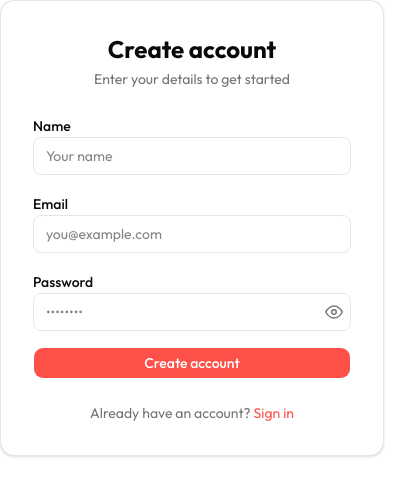
Test: RegisterForm › shows Zod validation error for empty name
Type "tim@test.com" into the field labelled "Email" at (192,234), box top-left (33, 215), bottom-right (351, 253)
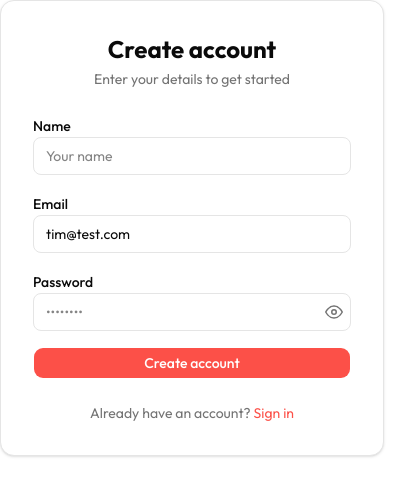
Type "password123" into the password field labelled "Password" at (192,312), box top-left (33, 293), bottom-right (351, 331)
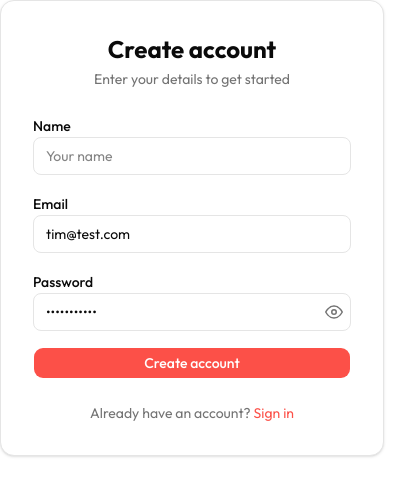
Submit the form "Name Email Password Create account", box top-left (33, 113), bottom-right (351, 379)
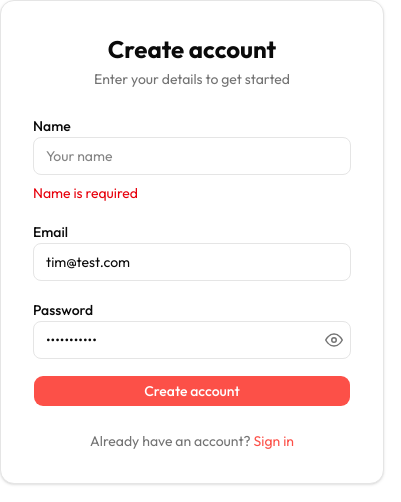
Result: the text "Name is required" is shown at top-left (33, 184), bottom-right (138, 202)
